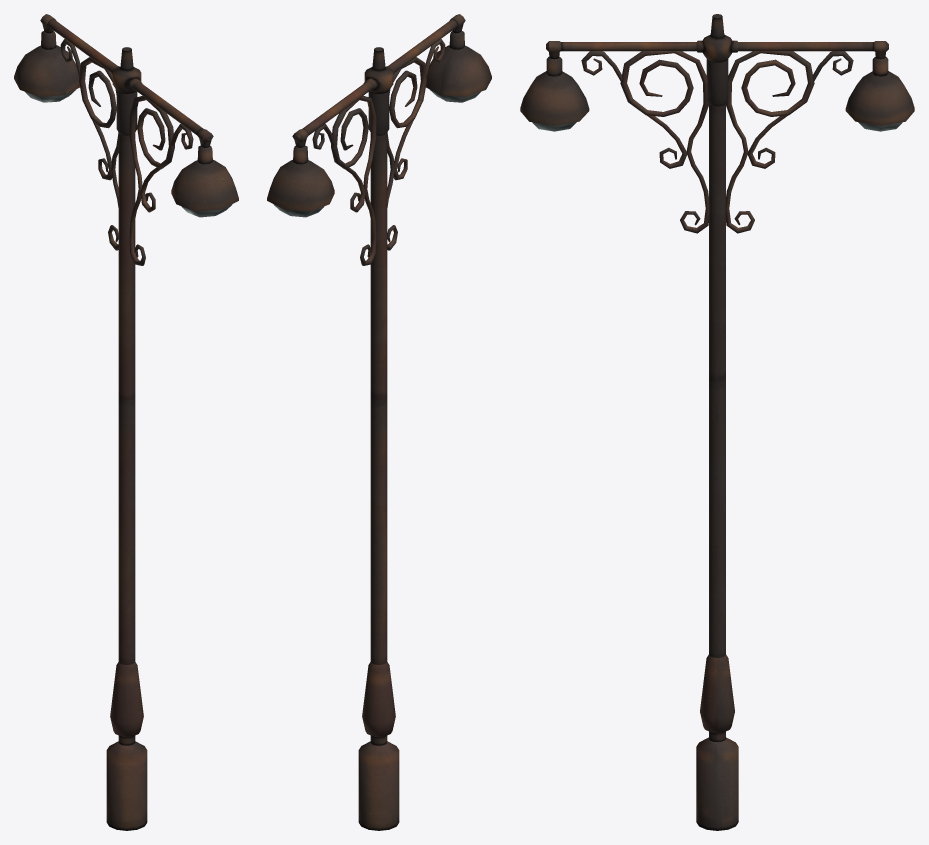
Rendered from lamppostDouble.fbx.
3 renders of one model, left to right at view 1: azimuth 30°, elevation 25°; view 2: azimuth 150°, elevation 25°; view 3: azimuth 270°, elevation 25°, orthographic. The views are drawn at different scales.
Visible parts, largest first — view 1: steamsquad_lamppost; view 2: steamsquad_lamppost; view 3: steamsquad_lamppost.
Boxes of the visible parts, x1,y1,x2,y2 form: steamsquad_lamppost: (14,14,238,830); steamsquad_lamppost: (267,14,491,830); steamsquad_lamppost: (520,14,914,830).
Bounding box in the file's own units: 0.1634 × 2.06 × 0.913.
